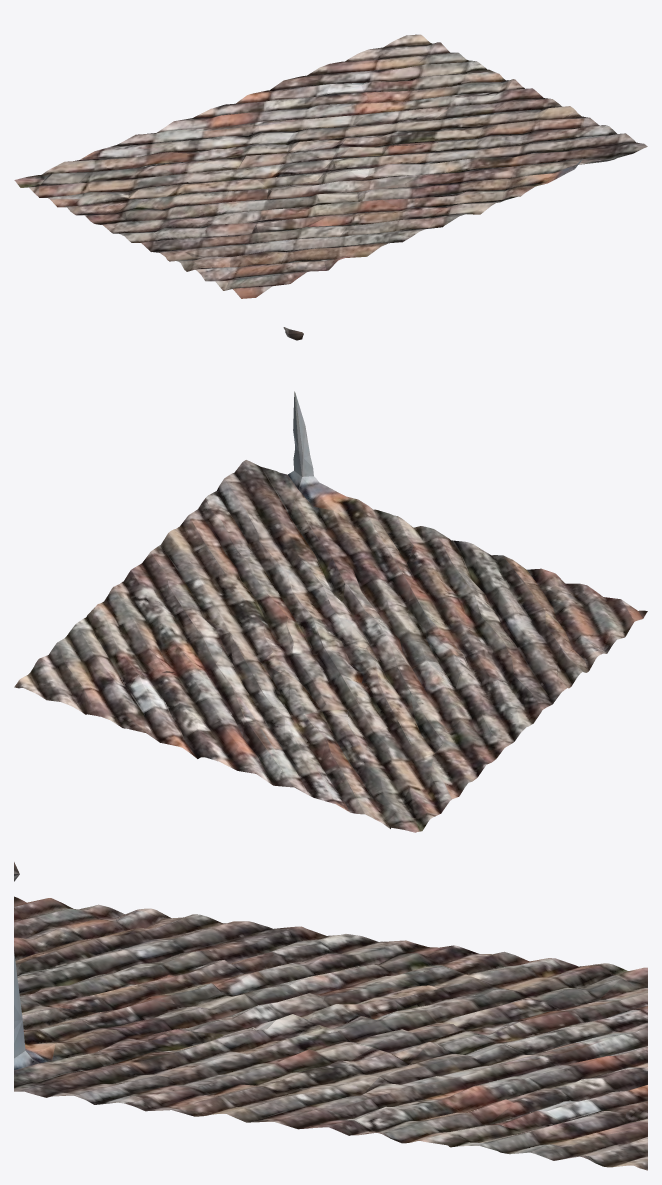
3 renders of one model, top to bottom at view 1: azimuth 30°, elevation 25°; view 2: azimuth 150°, elevation 25°; view 3: azimuth 270°, elevation 25°, orthographic. The views are drawn at different scales.
Size of the model in its own units: 3.35 by 1.99 by 3.35.
3 materials, 3 textured.
